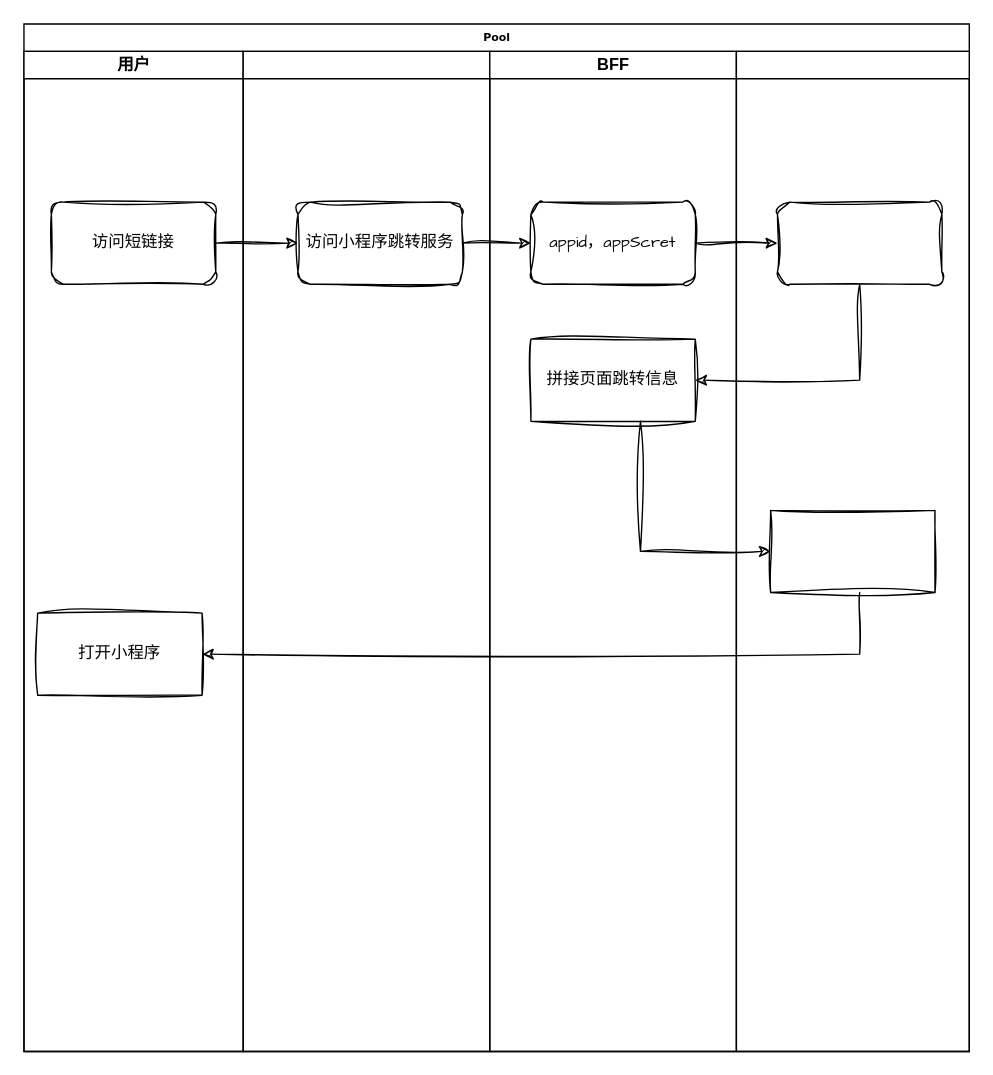
Some shapes in this 993 by 1075 pixel diagram are drawn without their labels. The shapes that lost their labels are listed below. From the top down, each one's box as (x1, y1, x2, y2) in pixels, then its label:
(776, 201, 942, 284): accesstoken
(242, 50, 490, 1051): BMS页面
(735, 50, 969, 1051): 微信服务
(769, 509, 935, 593): 调短链服务
